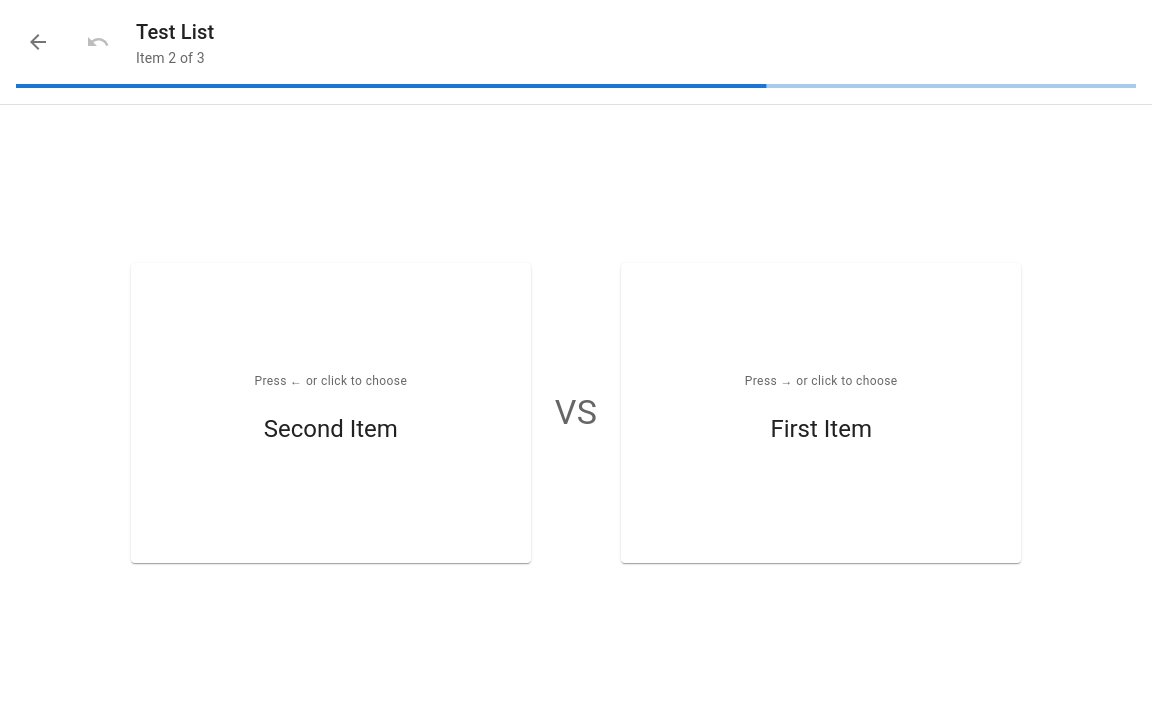
Test case: RankingView › User Interactions › closes exit dialog when cancel clicked
The image size is (1152, 720).
Click the 1st button: (38, 42) [16,20,60,64]
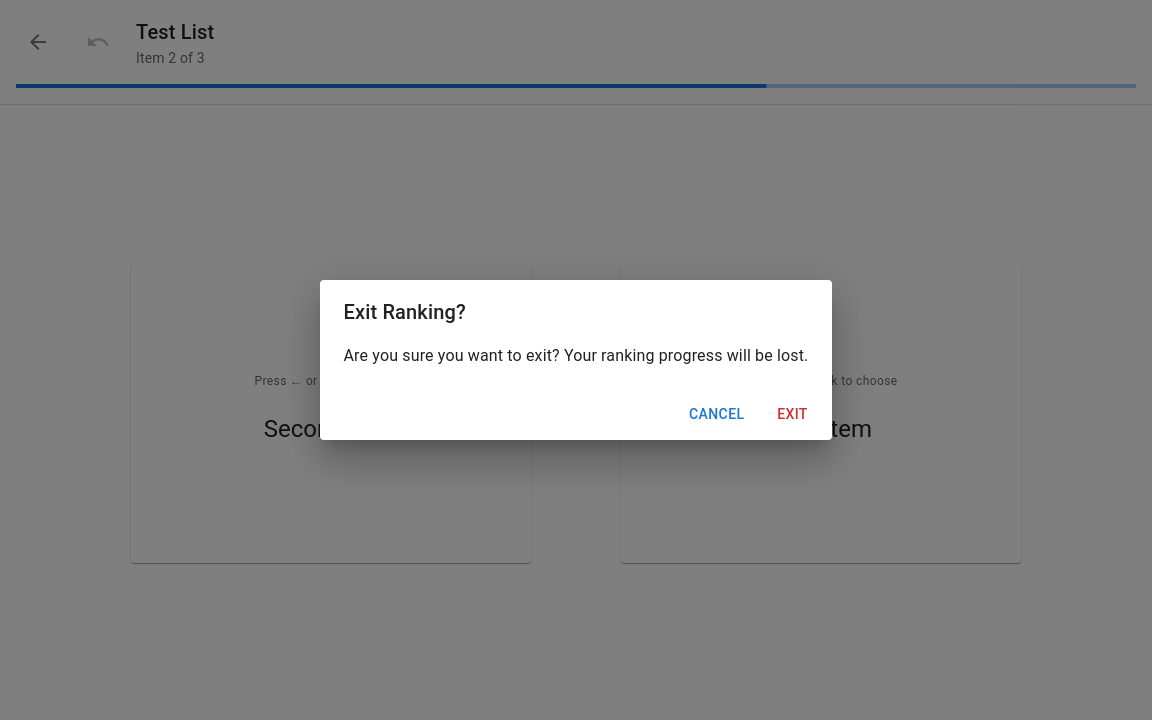
Now the heading "Exit Ranking?" is shown, box [344,300,466,324]
Click the button "Cancel": (717, 414) [681,396,752,432]
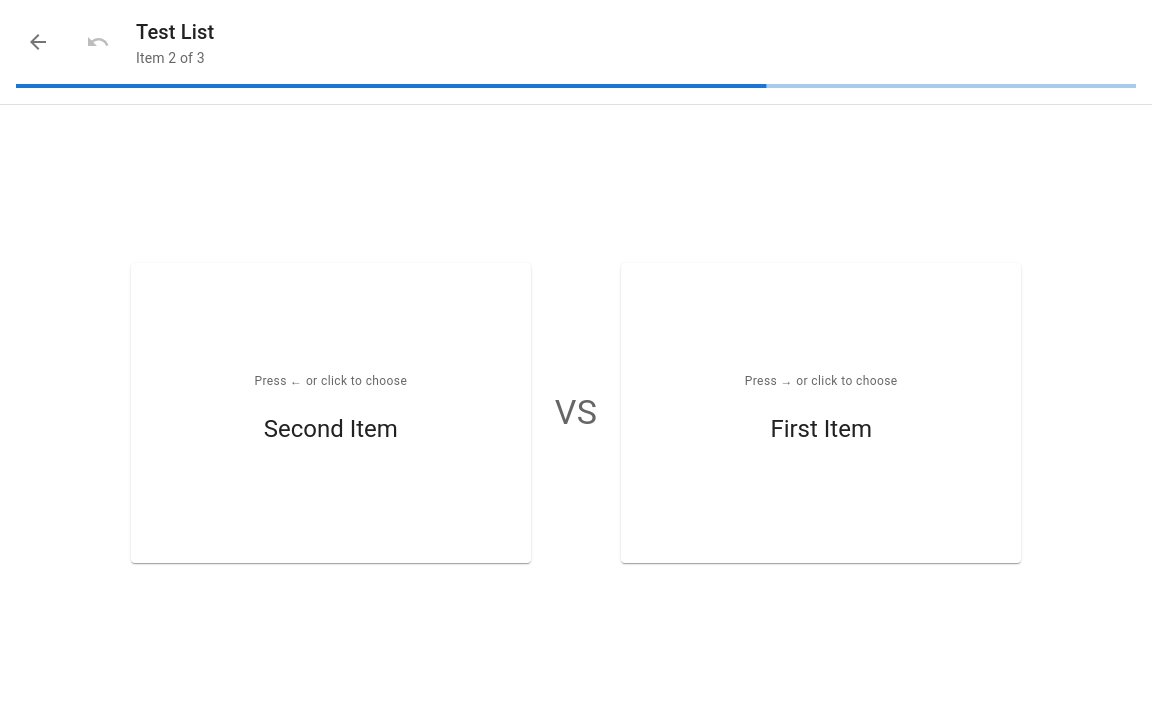
Now the heading "Exit Ranking?" is gone
